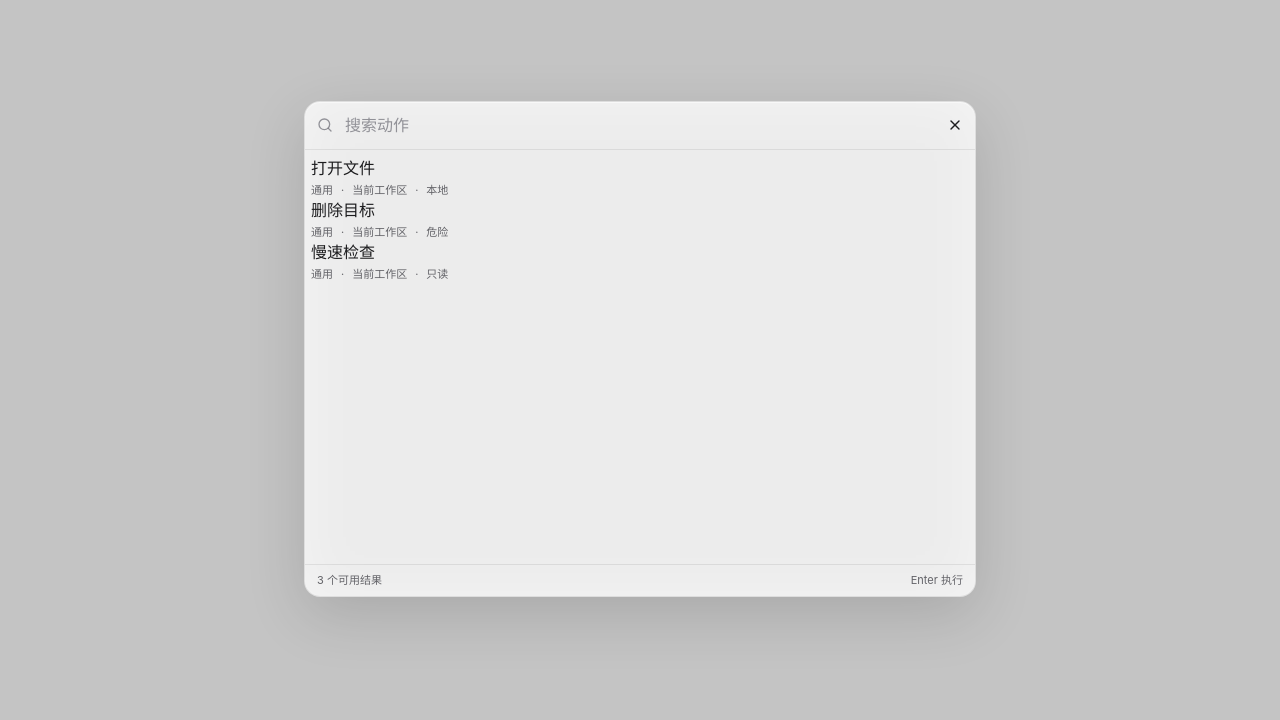
Test: CommandPalette › reports duplicate execution and aborts an in-flight wait on close
Click the text "慢速检查": (343, 252) [311,242,375,262]
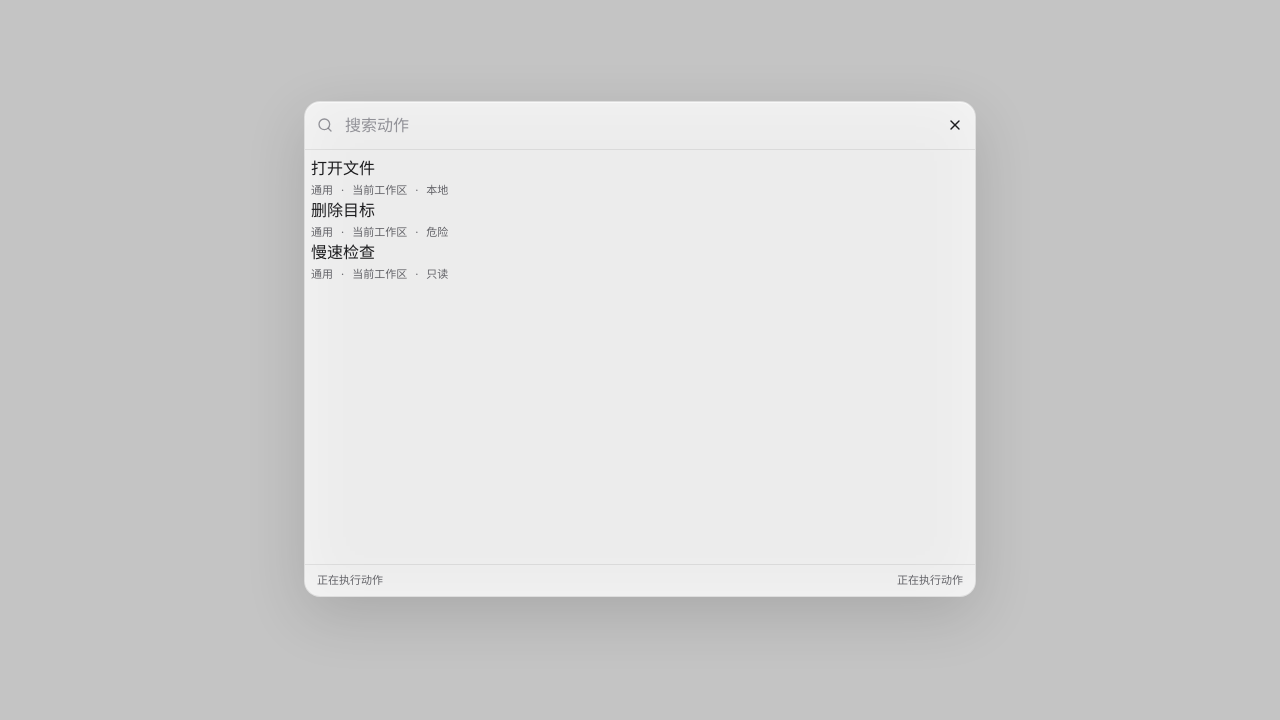
Click the text "慢速检查": (343, 252) [311,242,375,262]
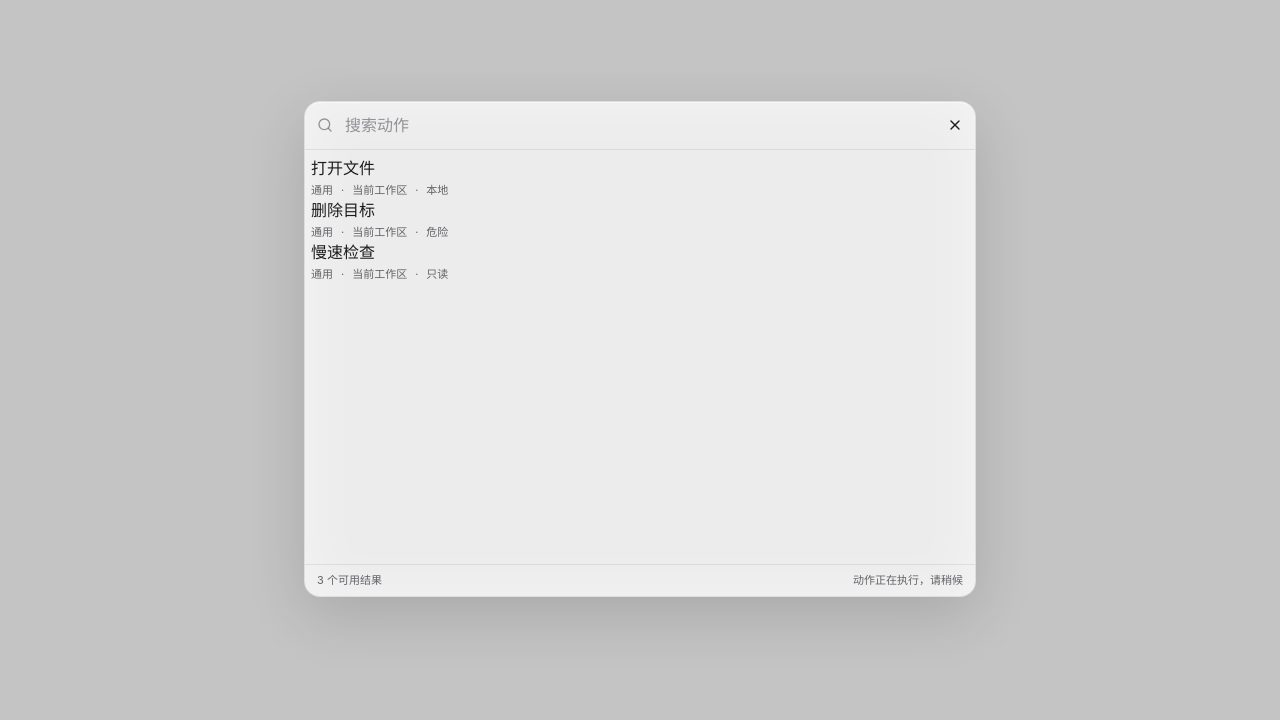
Result: the message shows "动作正在执行，请稍候" at [853,573,963,587]
